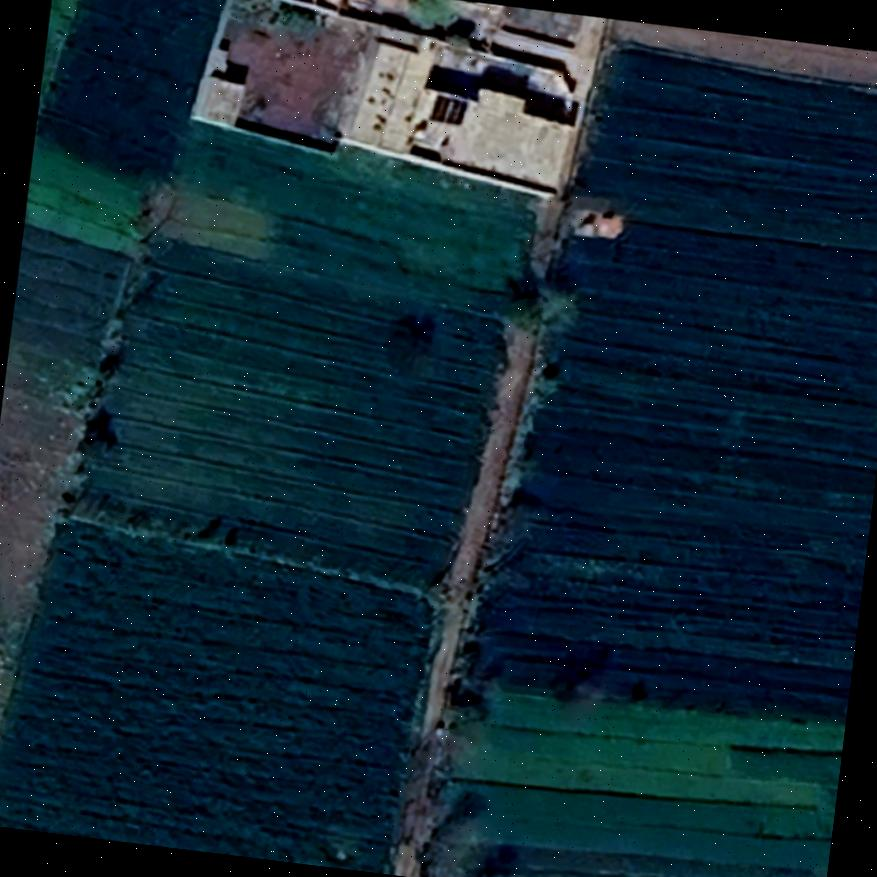Solarpanel: (425, 88, 472, 129)
